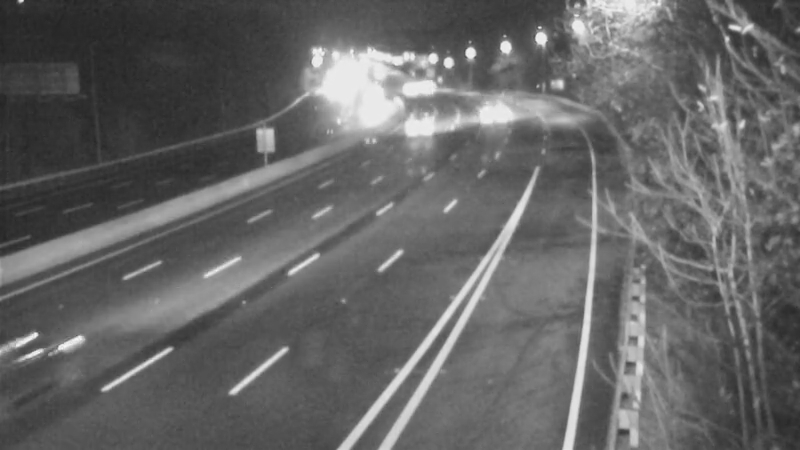vehicle: (1, 316, 98, 426), (466, 79, 516, 129), (401, 95, 451, 145), (349, 86, 399, 136)
